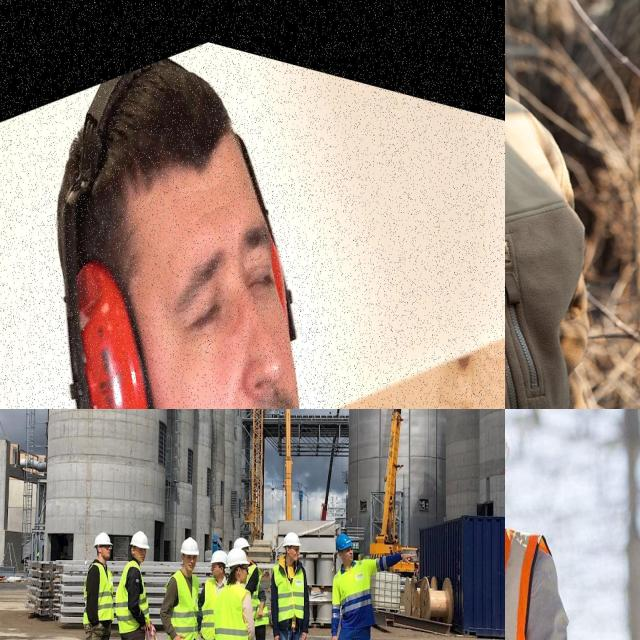Ear-protection: (62, 251, 172, 409)
face_nomask: (185, 552, 197, 571), (136, 545, 147, 562), (344, 545, 354, 562), (103, 543, 113, 559), (290, 545, 300, 561)
hand_noglove: (399, 547, 418, 569), (169, 632, 186, 640), (255, 607, 264, 620), (298, 630, 308, 640), (272, 632, 282, 640), (330, 633, 340, 640)
head_helmet: (282, 531, 302, 551), (130, 530, 150, 550), (180, 537, 200, 556), (227, 550, 250, 566), (335, 532, 353, 552), (210, 549, 228, 566), (94, 532, 113, 548), (233, 537, 251, 550)
head_nohelmet: (48, 58, 258, 236)
person: (49, 64, 408, 409), (505, 409, 548, 640), (328, 533, 420, 640), (108, 528, 151, 640), (214, 551, 267, 640), (271, 531, 309, 640), (163, 535, 201, 640), (78, 530, 114, 640), (201, 547, 225, 640)
vest: (114, 560, 150, 634), (166, 569, 200, 640), (331, 570, 374, 626), (215, 585, 254, 640), (84, 561, 114, 626), (272, 564, 306, 619), (200, 576, 222, 636)
